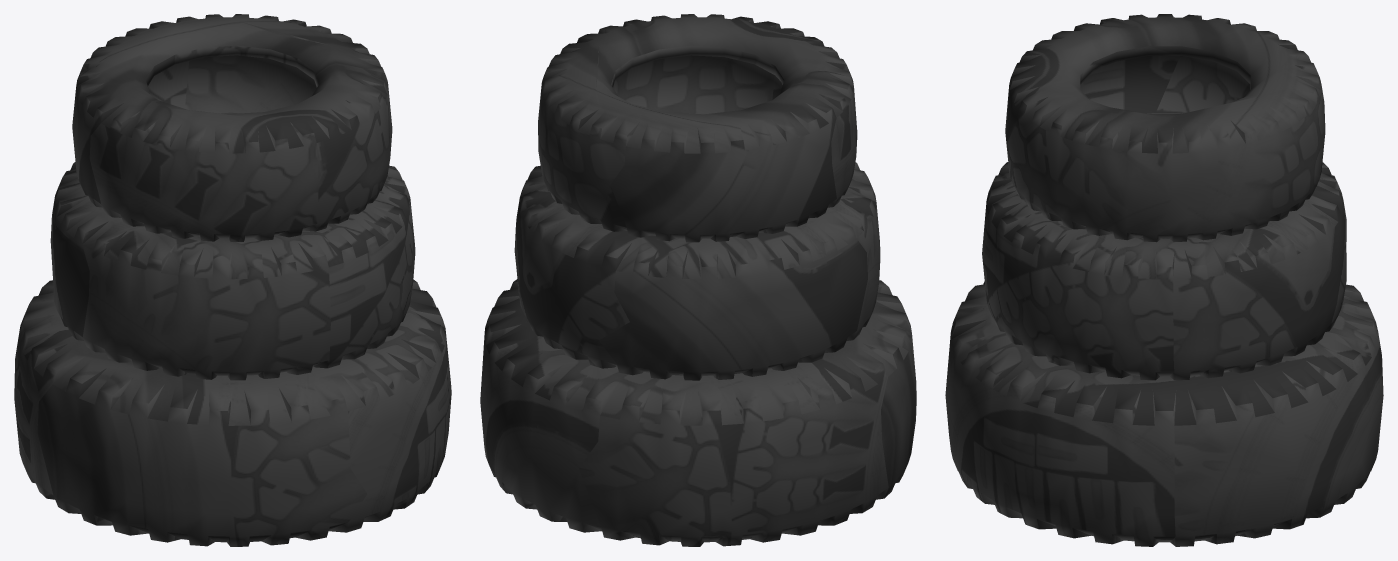
File: Tyres.fbx
The picture shows the model from 3 angles, left to right: view 1: azimuth 30°, elevation 25°; view 2: azimuth 150°, elevation 25°; view 3: azimuth 270°, elevation 25°; orthographic projection.
Parts seen in each view (by area): view 1: tire_omsk_o_47.002; view 2: tire_omsk_o_47.002; view 3: tire_omsk_o_47.002.
Part boxes in pixels (x1,y1,x2,y2): tire_omsk_o_47.002: [14, 14, 451, 546]; tire_omsk_o_47.002: [480, 14, 916, 546]; tire_omsk_o_47.002: [945, 14, 1383, 546].
Size of the model in its own units: 178 by 180 by 178.
